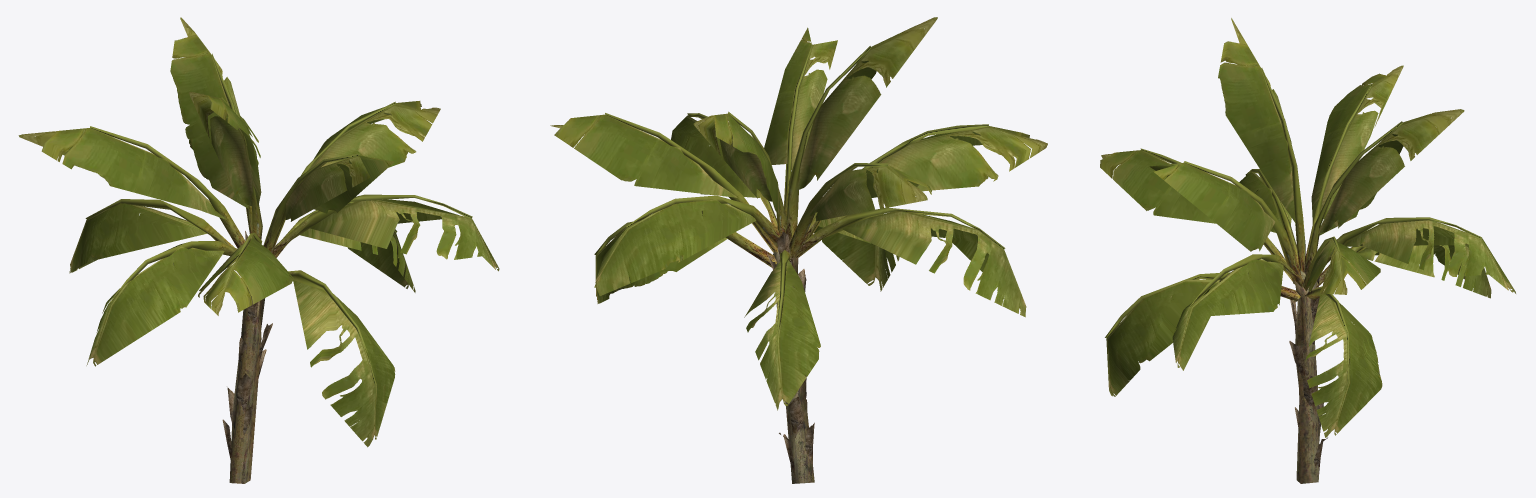
File: chuoi-2.glb
The picture shows the model from 3 angles, left to right: view 1: azimuth 30°, elevation 25°; view 2: azimuth 150°, elevation 25°; view 3: azimuth 270°, elevation 25°; orthographic projection. The views are drawn at different scales.
Parts seen in each view (by area): view 1: Tree_1, Tree_2, Tree_4, Tree_0, Tree_3; view 2: Tree_1, Tree_2, Tree_4, Tree_0, Tree_3; view 3: Tree_1, Tree_2, Tree_4, Tree_0, Tree_3.
Part boxes in pixels (left/top/right/bottom): Tree_1: left=18, top=17, right=440, bottom=315; Tree_2: left=69, top=116, right=499, bottom=447; Tree_4: left=85, top=53, right=472, bottom=385; Tree_0: left=229, top=287, right=264, bottom=483; Tree_3: left=222, top=231, right=272, bottom=468; Tree_1: left=550, top=17, right=1047, bottom=221; Tree_2: left=594, top=115, right=1026, bottom=410; Tree_4: left=594, top=44, right=1005, bottom=345; Tree_0: left=773, top=248, right=814, bottom=483; Tree_3: left=767, top=231, right=814, bottom=480; Tree_1: left=1100, top=18, right=1464, bottom=294; Tree_2: left=1106, top=172, right=1515, bottom=437; Tree_4: left=1105, top=68, right=1481, bottom=382; Tree_0: left=1294, top=271, right=1319, bottom=483; Tree_3: left=1289, top=276, right=1327, bottom=473.
Size of the model in its own units: 0.995 by 0.998 by 0.9296.
5 materials, 5 textured.
